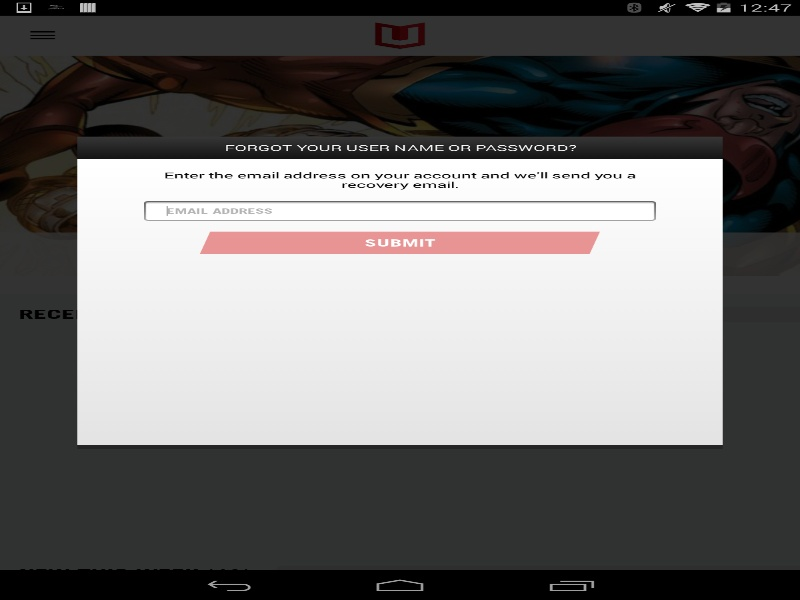Input: (144, 200, 656, 220)
